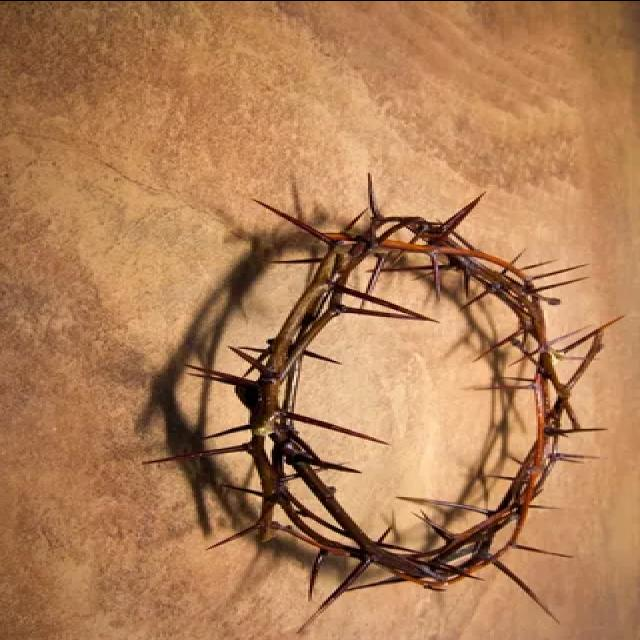crown: (187, 200, 609, 614)
